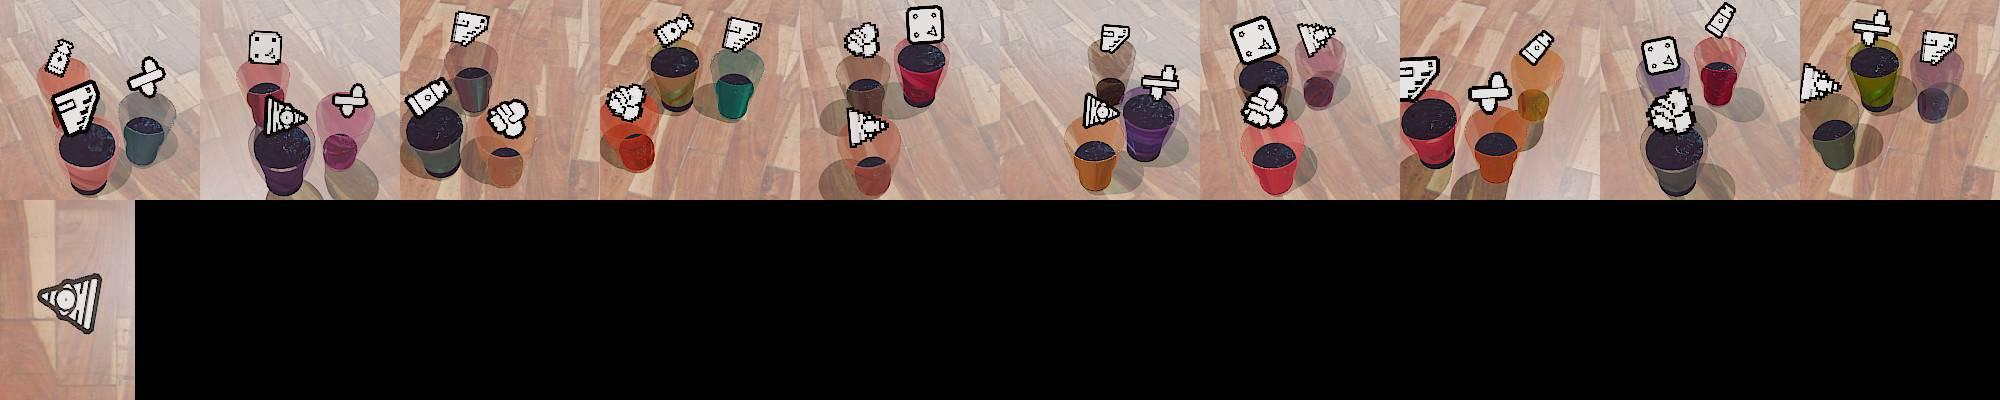icon: (37, 273, 104, 335), (51, 79, 99, 137), (1229, 15, 1278, 64), (404, 74, 455, 120), (1647, 87, 1695, 134), (1466, 70, 1514, 115), (1241, 85, 1288, 128), (1399, 55, 1441, 102), (263, 95, 308, 137), (486, 99, 530, 139), (1800, 62, 1841, 103), (846, 106, 887, 147), (127, 56, 167, 98), (1851, 8, 1893, 47), (604, 83, 647, 121), (1641, 36, 1681, 76), (721, 16, 762, 54), (654, 13, 696, 50), (1083, 90, 1122, 129), (905, 5, 943, 45), (450, 11, 490, 48), (843, 21, 880, 59), (1919, 29, 1958, 65), (1140, 64, 1181, 98), (1299, 21, 1336, 58), (1519, 29, 1555, 66), (247, 29, 283, 66), (331, 83, 369, 116), (1704, 2, 1736, 39), (45, 38, 74, 75), (1101, 23, 1132, 54)
